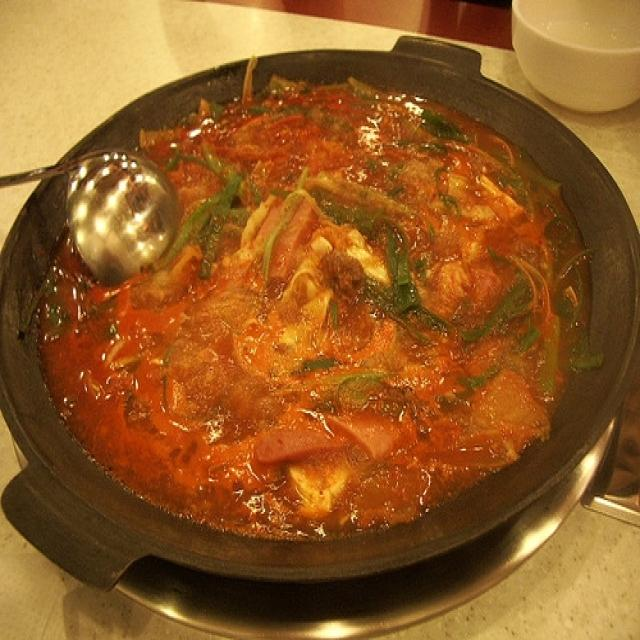汤锅炖物: (11, 26, 617, 604)
